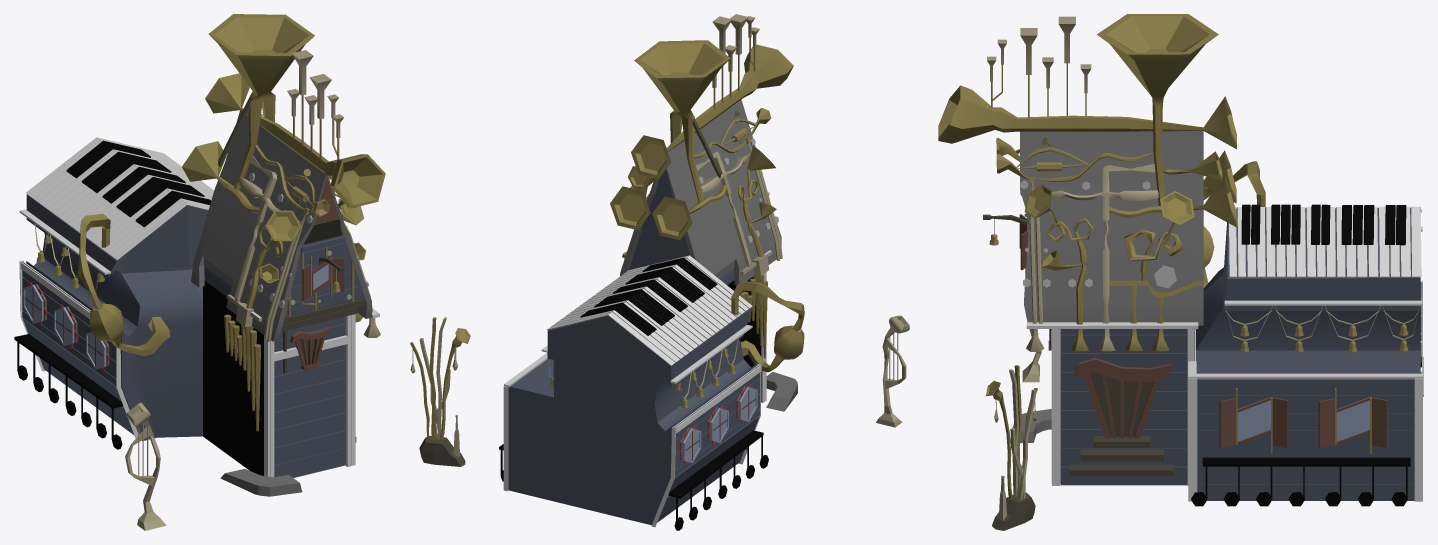
File: Music_Store_Part_01.fbx
3 renders of one model, left to right at view 1: azimuth 30°, elevation 25°; view 2: azimuth 150°, elevation 25°; view 3: azimuth 270°, elevation 25°, orthographic. The views are drawn at different scales.
Visible parts, largest first — view 1: music_store_1; view 2: music_store_1; view 3: music_store_1.
Boxes of the visible parts, x1=… form: music_store_1: x1=14, y1=14, x2=470, y2=530; music_store_1: x1=499, y1=14, x2=909, y2=530; music_store_1: x1=938, y1=14, x2=1423, y2=530.
Size of the model in its own units: 4450 by 5498 by 5455.
